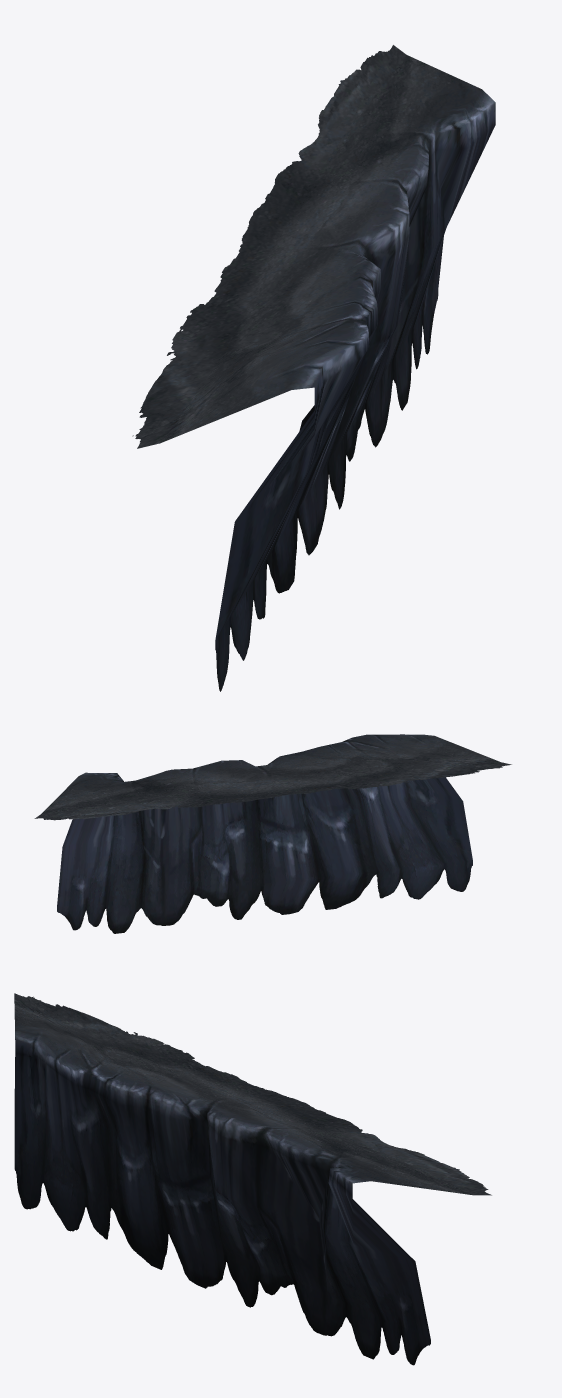
File: mine_trim_diagonal_01.fbx
3 renders of one model, top to bottom at view 1: azimuth 30°, elevation 25°; view 2: azimuth 150°, elevation 25°; view 3: azimuth 270°, elevation 25°, orthographic. The views are drawn at different scales.
Parts seen in each view (by area): view 1: mine_tileset/mine_trim_01_mat; view 2: mine_tileset/mine_trim_01_mat; view 3: mine_tileset/mine_trim_01_mat.
Boxes of the visible parts, <box> form: mine_tileset/mine_trim_01_mat: <box>132,45,495,691</box>; mine_tileset/mine_trim_01_mat: <box>34,734,511,933</box>; mine_tileset/mine_trim_01_mat: <box>14,993,491,1365</box>.
Bounding box in the file's own units: 4.65 × 1.98 × 4.65.
